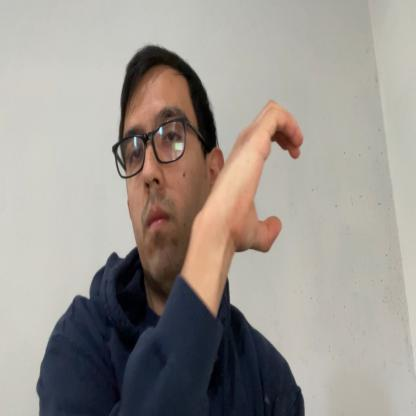C: (215, 100, 304, 256)
